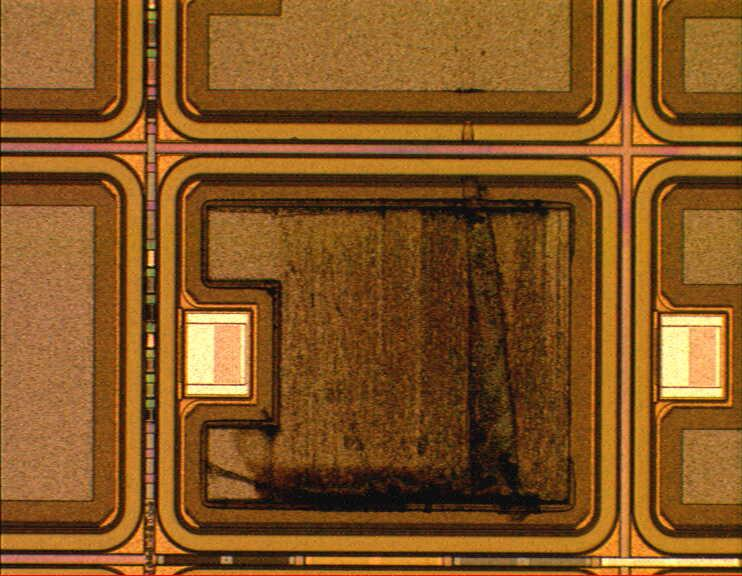SEZ BURNT: (201, 124, 575, 515)
